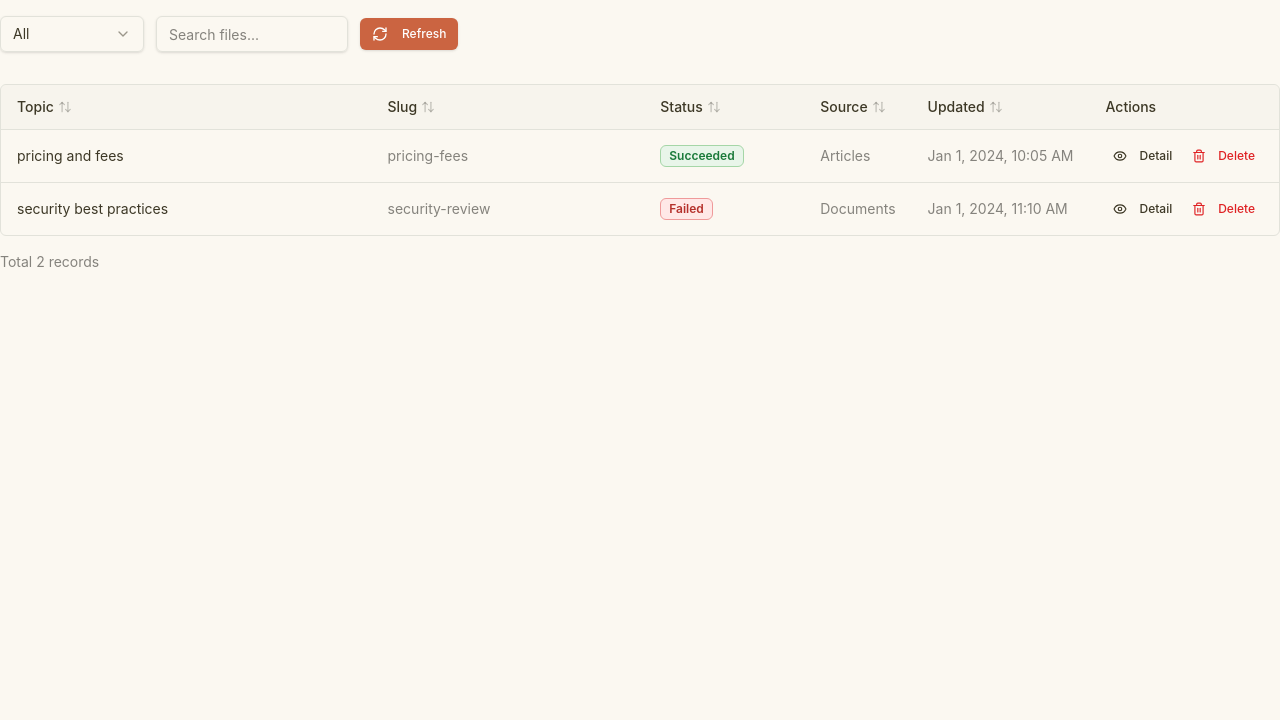
DeriveJobsTab › delete confirmation › asks for confirmation before deleting
Click the button "Delete" in the row of "pricing and fees" at (1224, 156), box [1184,142,1263,170]
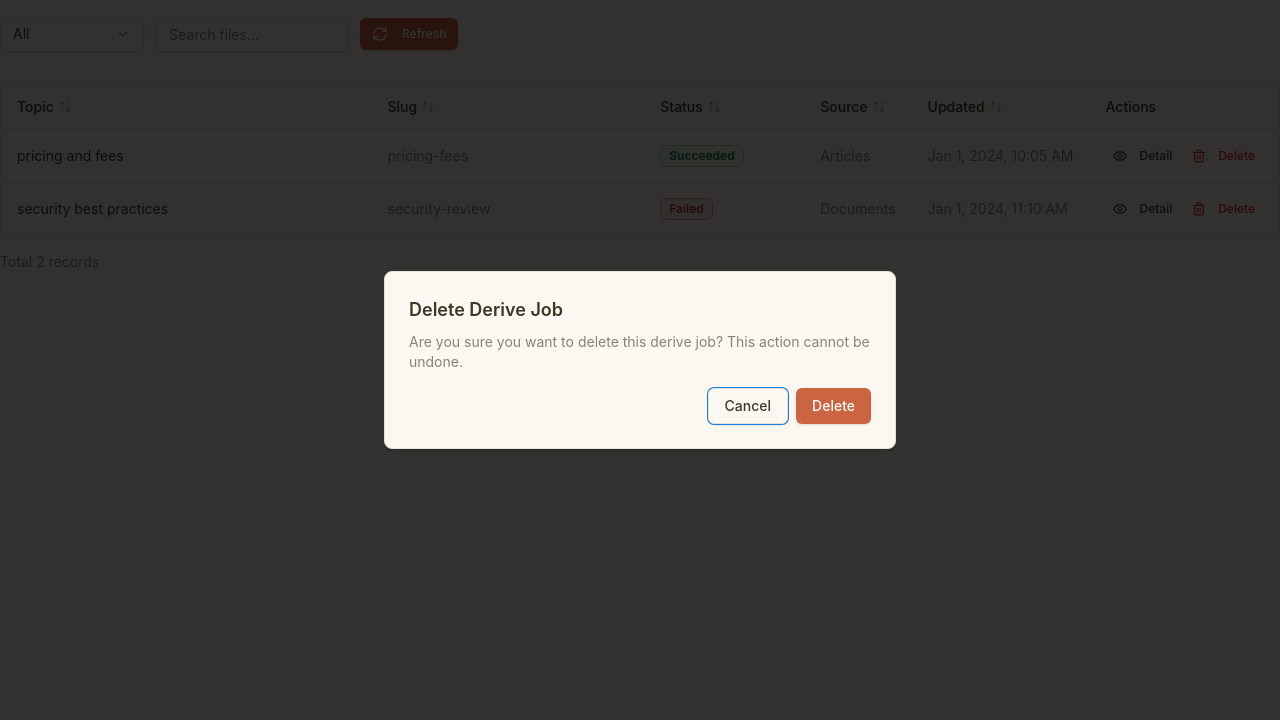
Now the dialog shows "Delete Derive Job", box [409,299,563,320]
